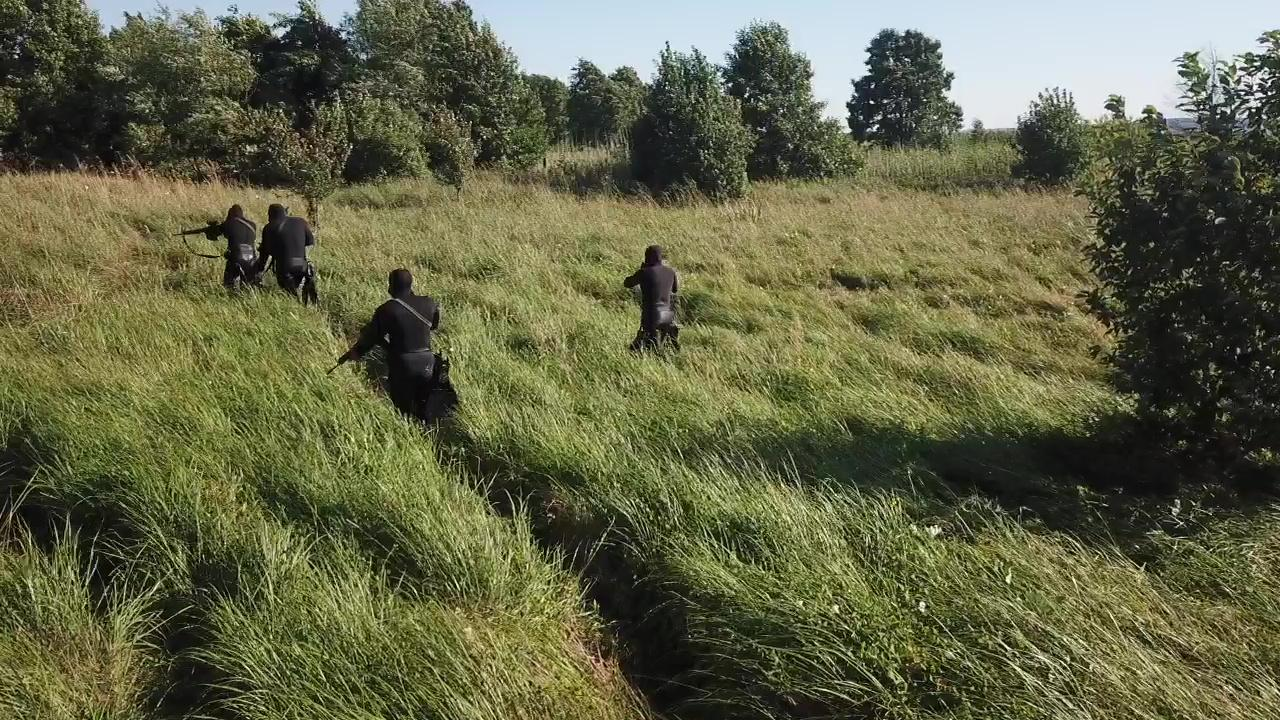Soldier: (327, 263, 444, 420), (173, 201, 260, 294), (256, 200, 318, 306), (622, 243, 681, 348)
